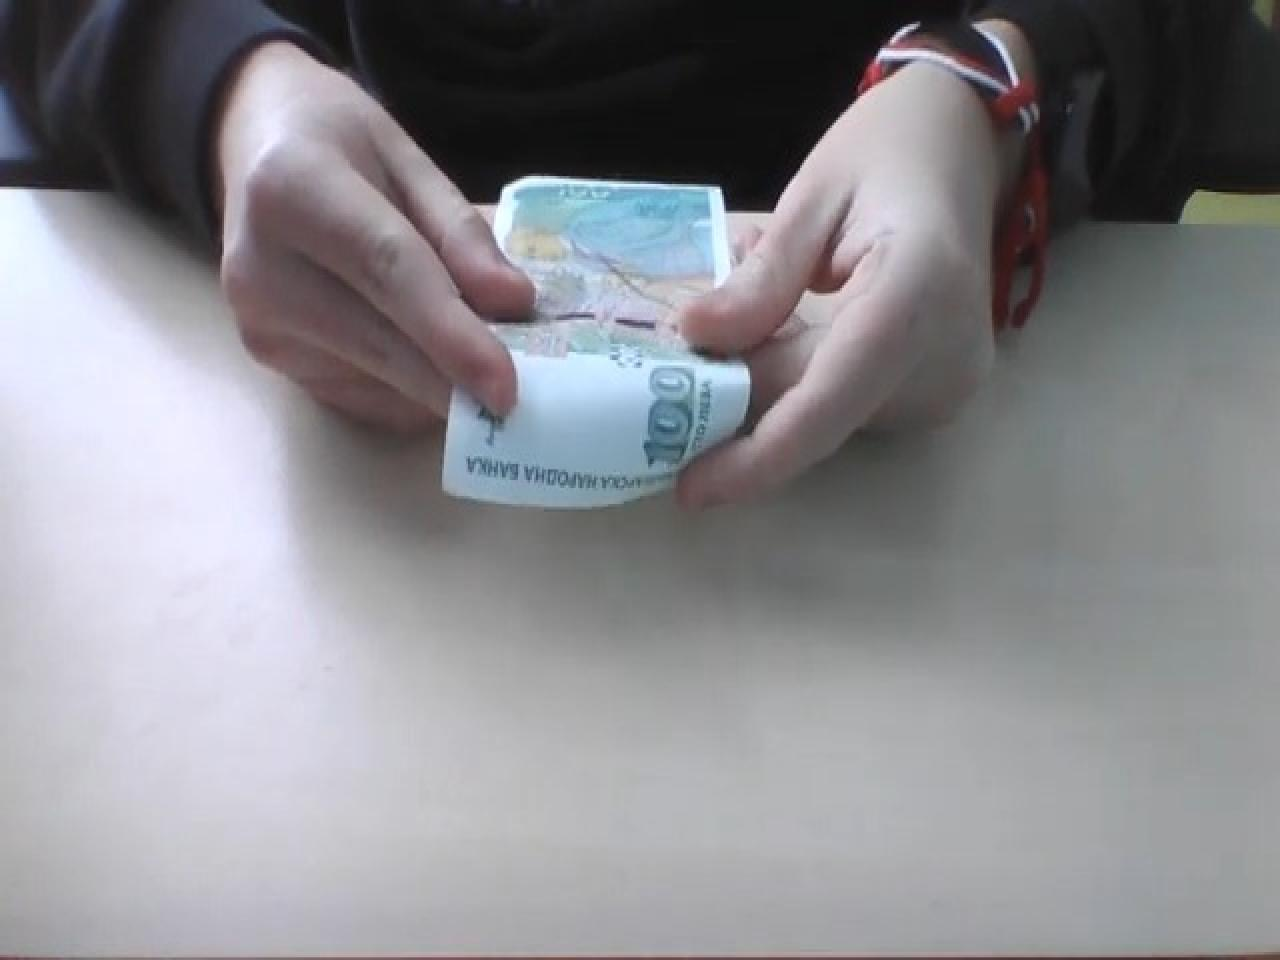100leva: (438, 170, 754, 509)
